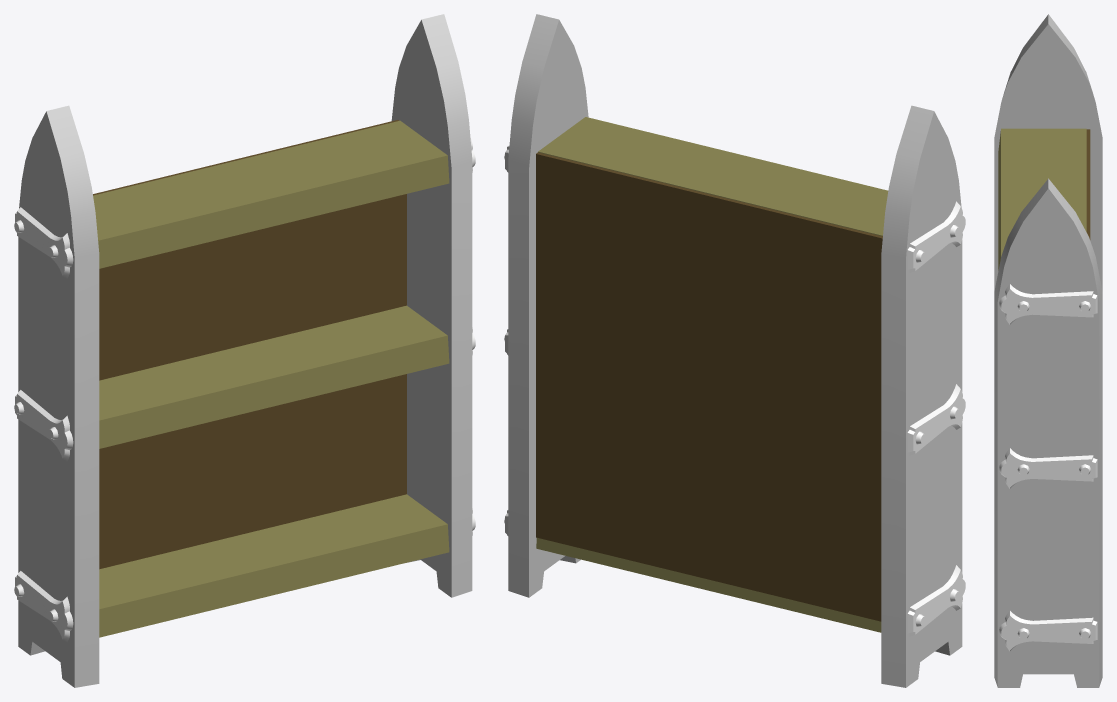
The model's file is extra_arch_shelf.glb.
3 views of the same model, side by side, from view 1: azimuth 30°, elevation 25°; view 2: azimuth 150°, elevation 25°; view 3: azimuth 270°, elevation 25° (orthographic). The views are drawn at different scales.
Visible parts, largest first — view 1: Cylinder032_1, Cylinder032; view 2: Cylinder032_1, Cylinder032; view 3: Cylinder032_1, Cylinder032.
Part boxes in pixels (bbox=[...]): Cylinder032_1: bbox=[18, 14, 472, 687]; Cylinder032: bbox=[14, 138, 475, 642]; Cylinder032_1: bbox=[508, 14, 962, 687]; Cylinder032: bbox=[504, 145, 965, 636]; Cylinder032_1: bbox=[994, 14, 1102, 687]; Cylinder032: bbox=[999, 284, 1097, 651].
Size of the model in its own units: 1.25 by 1.59 by 0.3116.
